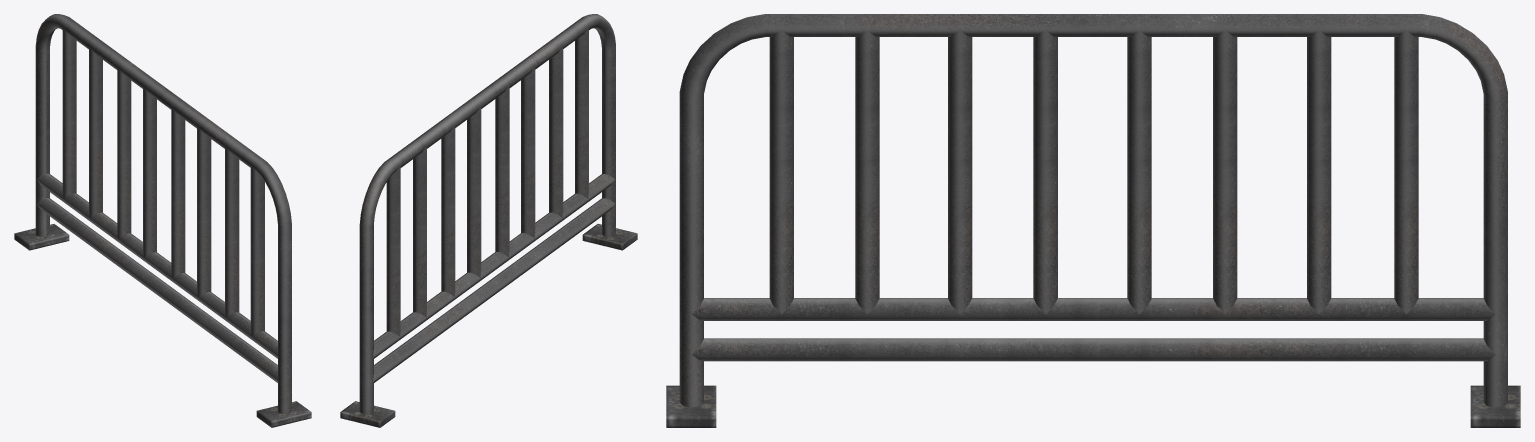
The model's file is SM_Barrier.FBX.
3 views of the same model, side by side, from view 1: azimuth 30°, elevation 25°; view 2: azimuth 150°, elevation 25°; view 3: azimuth 270°, elevation 25° (orthographic). The views are drawn at different scales.
Visible parts, largest first — view 1: SM_Barrier; view 2: SM_Barrier; view 3: SM_Barrier.
Boxes of the visible parts, <box> form: SM_Barrier: <box>14,14,311,427</box>; SM_Barrier: <box>340,14,637,427</box>; SM_Barrier: <box>666,14,1520,427</box>.
Size of the model in its own units: 26.85 by 300 by 154.
